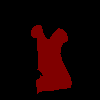t-shirt: (30, 24, 72, 94)
